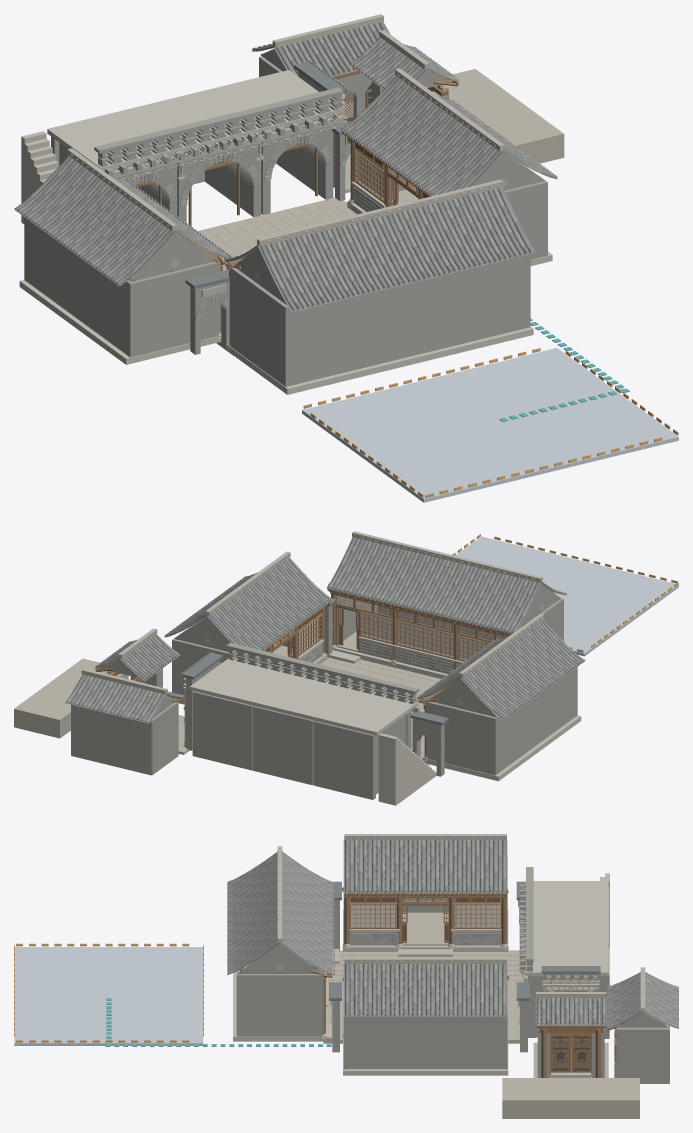
Rendered from kangjiatan-courtyard-v3.glb.
3 views of the same model, one above another, from view 1: azimuth 30°, elevation 25°; view 2: azimuth 150°, elevation 25°; view 3: azimuth 270°, elevation 25° (orthographic). The views are drawn at different scales.
Parts seen in each view (by area): view 1: Z_rear_placeholder, A_south_hall_individual_cover_tiles (×5), A_south_hall_back_wall, C_west_wing_individual_cover_tiles (×5), B_east_wing_individual_cover_tiles (×5), D_roof_terrace_hypothesis, D_interior_vault_hypothesis, C_west_wing_side_wall, C_west_wing_back_wall, A_south_hall_side_wall, D_parapet_schematic, F_street_level_hypothesis (+21 smaller); view 2: D_north_vault_back, A_south_hall_individual_cover_tiles (×5), Z_rear_placeholder, C_west_wing_individual_cover_tiles (×5), B_east_wing_individual_cover_tiles (×5), D_roof_terrace_hypothesis, I_passage_room_back_hypothesis, C_west_wing_side_wall, C_west_wing_back_wall, D_parapet_schematic, F_street_level_hypothesis, I_passage_room_hypothesis_individual_cover_tiles (×5) (+30 smaller); view 3: Z_rear_placeholder, A_south_hall_individual_cover_tiles (×5), B_east_wing_individual_cover_tiles (×5), C_west_wing_individual_cover_tiles (×5), B_east_wing_back_wall, D_roof_terrace_hypothesis, F_street_level_hypothesis, A_south_hall_side_wall, I_passage_room_hypothesis_individual_cover_tiles (×5), B_east_wing_individual_pan_tiles (×5), I_passage_room_gable_hypothesis, C_west_wing_individual_pan_tiles (×5) (+27 smaller).
Part boxes in pixels (bbox=[...]): Z_rear_placeholder: bbox=[302, 348, 678, 502]; A_south_hall_individual_cover_tiles (×5): bbox=[225, 187, 534, 311]; A_south_hall_back_wall: bbox=[289, 255, 526, 385]; C_west_wing_individual_cover_tiles (×5): bbox=[15, 156, 229, 285]; B_east_wing_individual_cover_tiles (×5): bbox=[343, 76, 557, 195]; D_roof_terrace_hypothesis: bbox=[47, 70, 342, 171]; D_interior_vault_hypothesis: bbox=[59, 116, 332, 222]; C_west_wing_side_wall: bbox=[24, 217, 220, 357]; C_west_wing_back_wall: bbox=[28, 220, 128, 352]; A_south_hall_side_wall: bbox=[229, 254, 530, 386]; D_parapet_schematic: bbox=[94, 87, 343, 166]; F_street_level_hypothesis: bbox=[443, 69, 564, 166]; D_north_vault_back: bbox=[192, 691, 375, 799]; A_south_hall_individual_cover_tiles (×5): bbox=[328, 537, 567, 632]; Z_rear_placeholder: bbox=[455, 536, 678, 656]; C_west_wing_individual_cover_tiles (×5): bbox=[418, 619, 584, 719]; B_east_wing_individual_cover_tiles (×5): bbox=[164, 557, 330, 655]; D_roof_terrace_hypothesis: bbox=[189, 658, 418, 735]; I_passage_room_back_hypothesis: bbox=[71, 705, 151, 775]; C_west_wing_side_wall: bbox=[425, 667, 577, 775]; C_west_wing_back_wall: bbox=[496, 669, 574, 771]; D_parapet_schematic: bbox=[226, 642, 419, 704]; F_street_level_hypothesis: bbox=[14, 658, 128, 738]; I_passage_room_hypothesis_individual_cover_tiles (×5): bbox=[65, 674, 183, 722]; Z_rear_placeholder: bbox=[14, 947, 203, 1045]; A_south_hall_individual_cover_tiles (×5): bbox=[227, 852, 332, 974]; B_east_wing_individual_cover_tiles (×5): bbox=[345, 964, 506, 1015]; C_west_wing_individual_cover_tiles (×5): bbox=[345, 840, 506, 891]; B_east_wing_back_wall: bbox=[350, 1016, 500, 1068]; D_roof_terrace_hypothesis: bbox=[526, 881, 608, 975]; F_street_level_hypothesis: bbox=[502, 1078, 639, 1118]; A_south_hall_side_wall: bbox=[236, 972, 323, 1036]; I_passage_room_hypothesis_individual_cover_tiles (×5): bbox=[607, 972, 678, 1027]; B_east_wing_individual_pan_tiles (×5): bbox=[347, 964, 504, 1016]; I_passage_room_gable_hypothesis: bbox=[616, 1020, 669, 1083]; C_west_wing_individual_pan_tiles (×5): bbox=[348, 840, 502, 892].
Bounding box in the file's own units: 24.88 × 5.96 × 33.81.
Materials: 29 (3 with a texture image).
